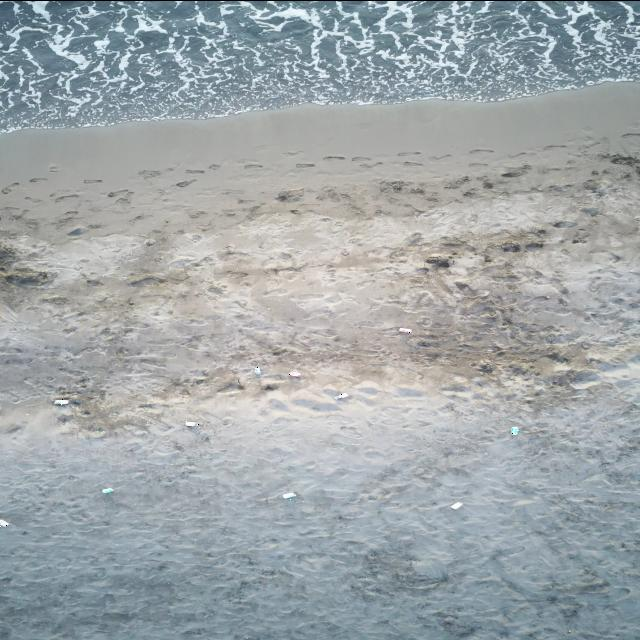Garbage: (184, 420, 208, 440), (184, 420, 199, 427), (281, 492, 296, 499), (263, 383, 276, 390), (335, 392, 347, 399), (449, 502, 462, 508), (288, 369, 300, 375), (54, 399, 68, 404), (0, 519, 8, 527), (511, 427, 519, 435), (253, 366, 260, 375), (399, 327, 411, 332), (101, 487, 112, 492)
